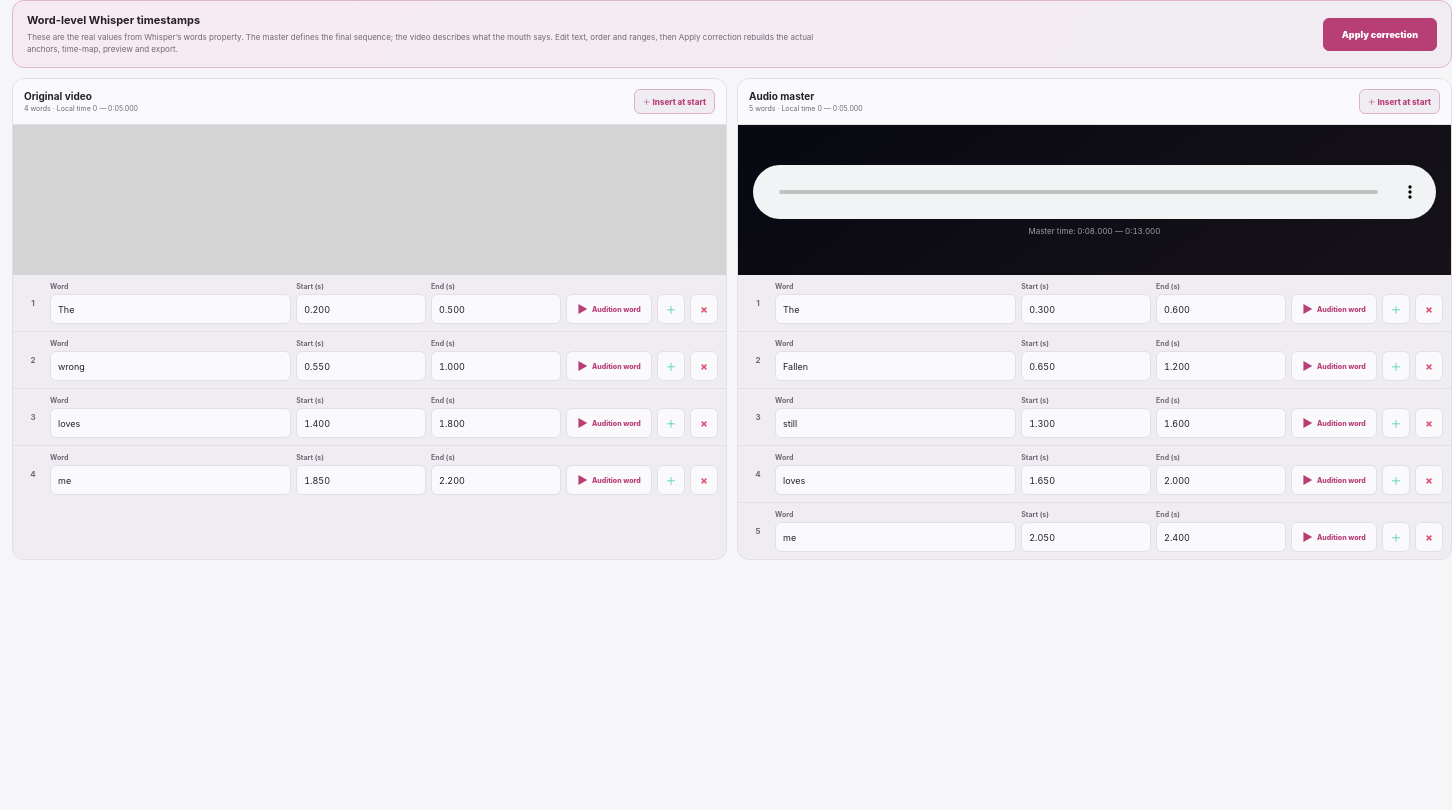
Scenario: MlsmWhisperWordEditor › shows the complete words property for video and master and applies text/count/timestamp edits
Expected: the element "Original video" shows "4 words", [12, 78, 727, 560]
Expected: the element "Audio master" shows "5 words", [737, 78, 1451, 560]
Step 1. Replace the text in the field named "Word Original video 2" with "Fallen" → (171, 366), box [50, 351, 291, 381]
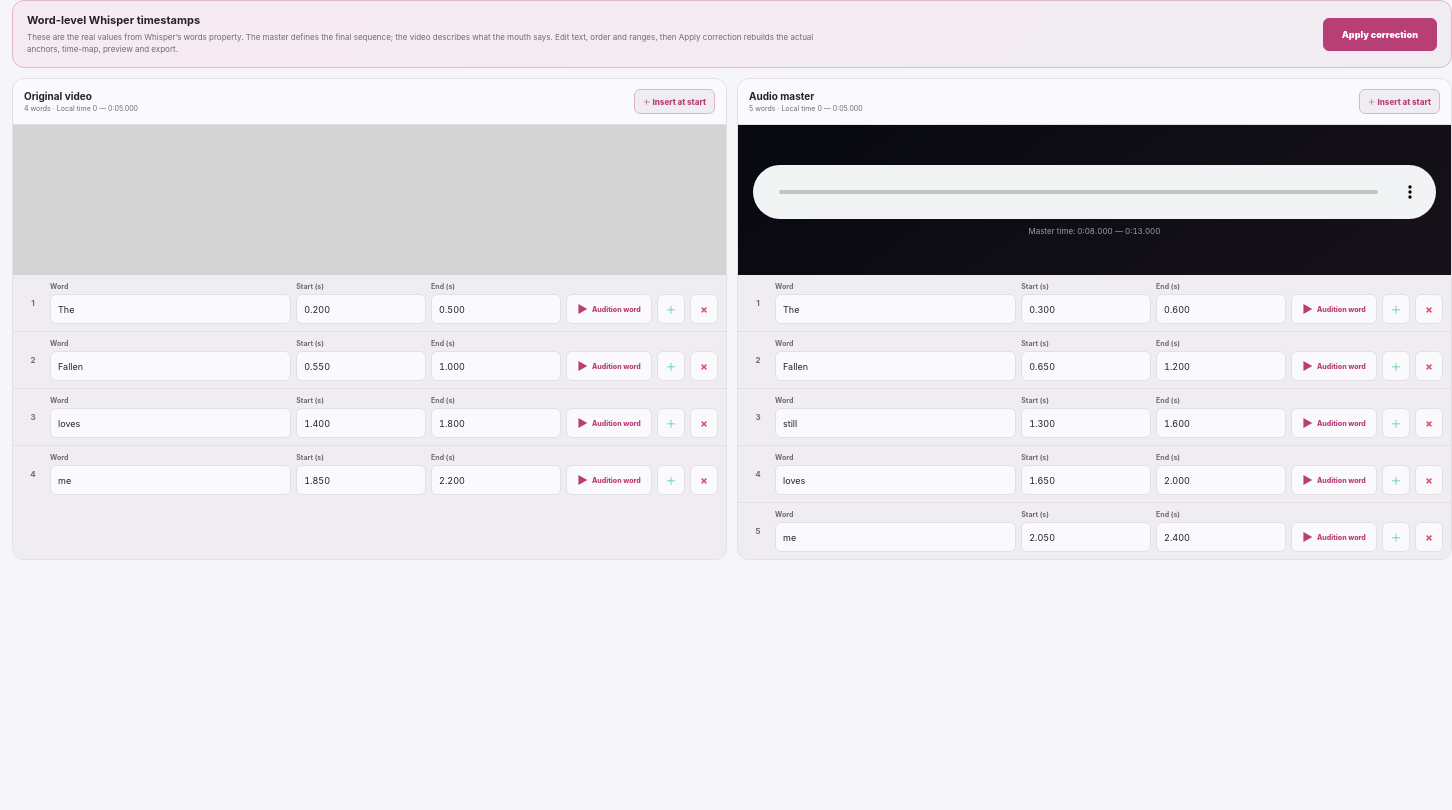
Step 2. Replace the text in the field named "Start (s) Original video 2" with "0.600" → (361, 366), box [296, 351, 426, 381]
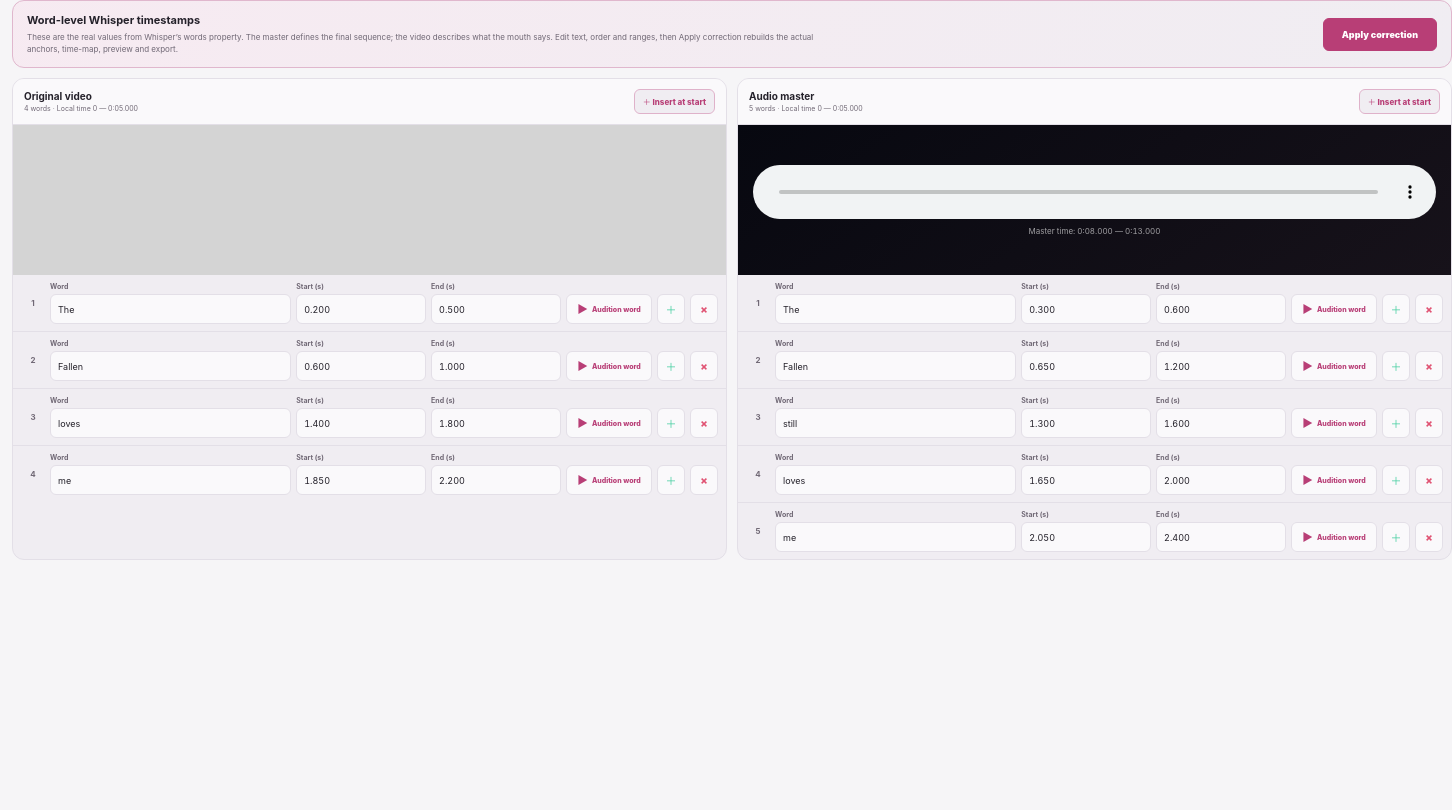
Step 3. Click the button named "Insert after: Fallen · Original video" → (671, 366), box [657, 351, 685, 381]
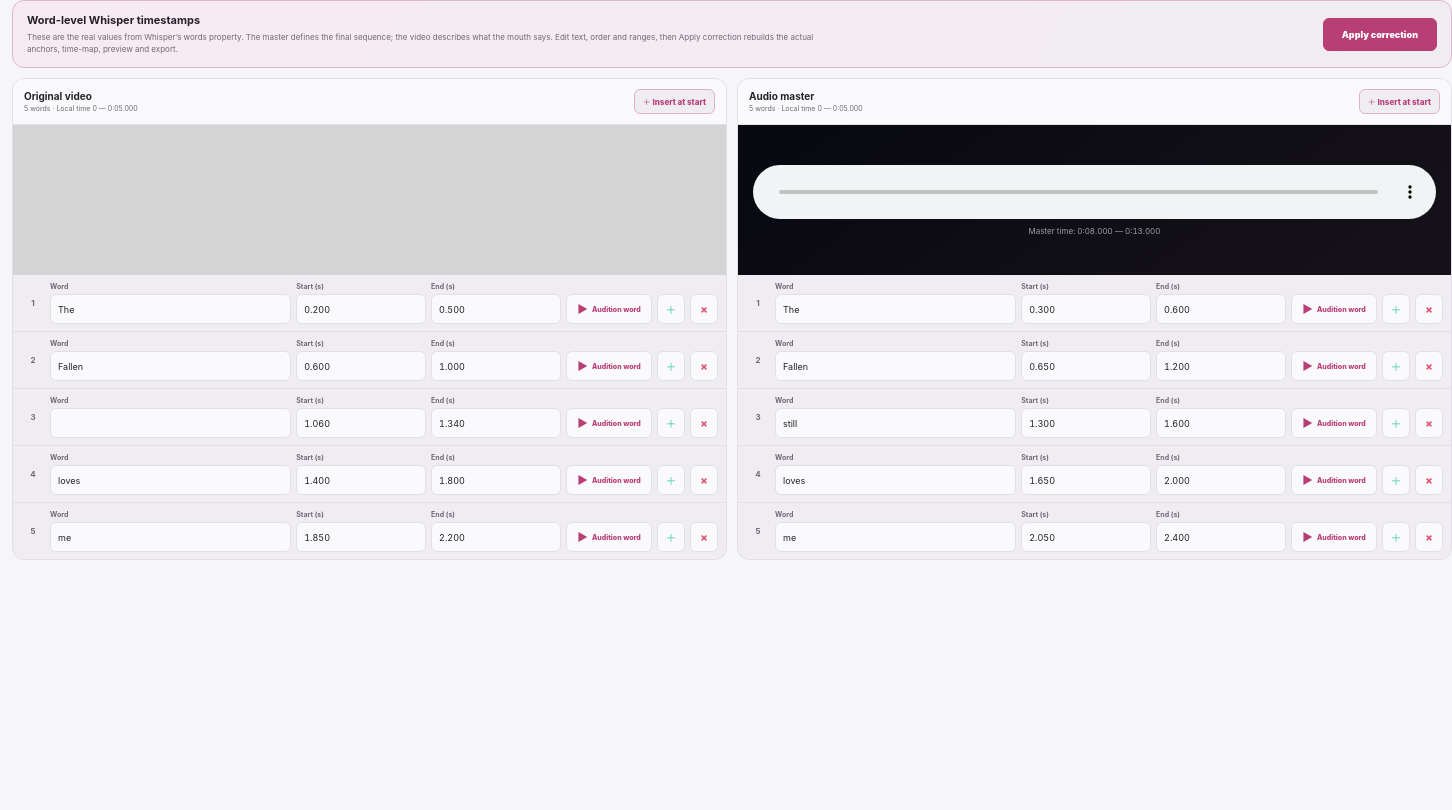
Expected: the element "Original video" shows "5 words", [12, 78, 727, 560]
Step 4. Type "still" into the field named "Word Original video 3" → (171, 423), box [50, 408, 291, 438]
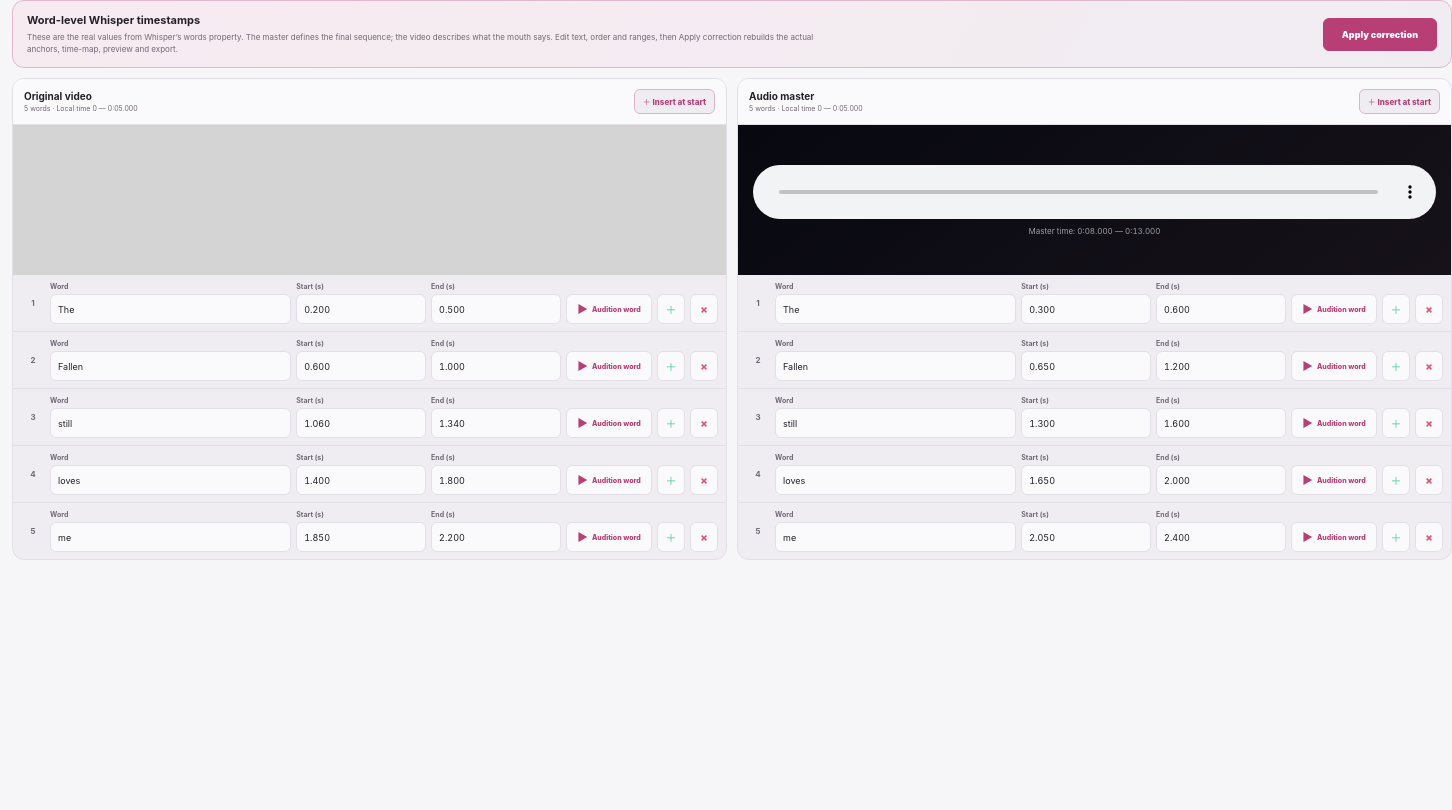
Step 5. Click the button named "Delete word: still · Audio master" → (1429, 423), box [1415, 408, 1443, 438]
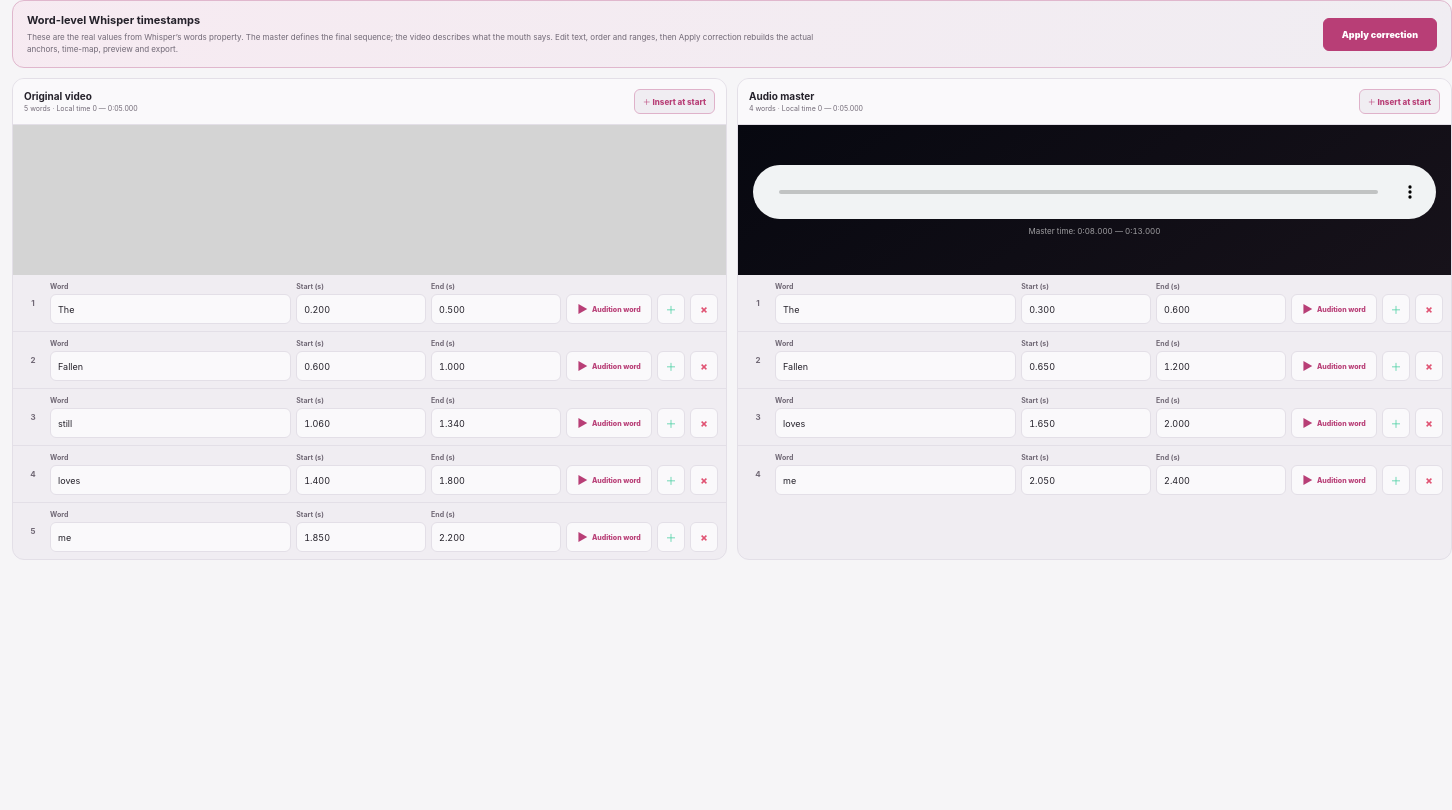
Expected: the element "Audio master" shows "4 words", [737, 78, 1451, 560]
Step 6. Click the button "Apply correction" → (1380, 34), box [1323, 18, 1437, 50]
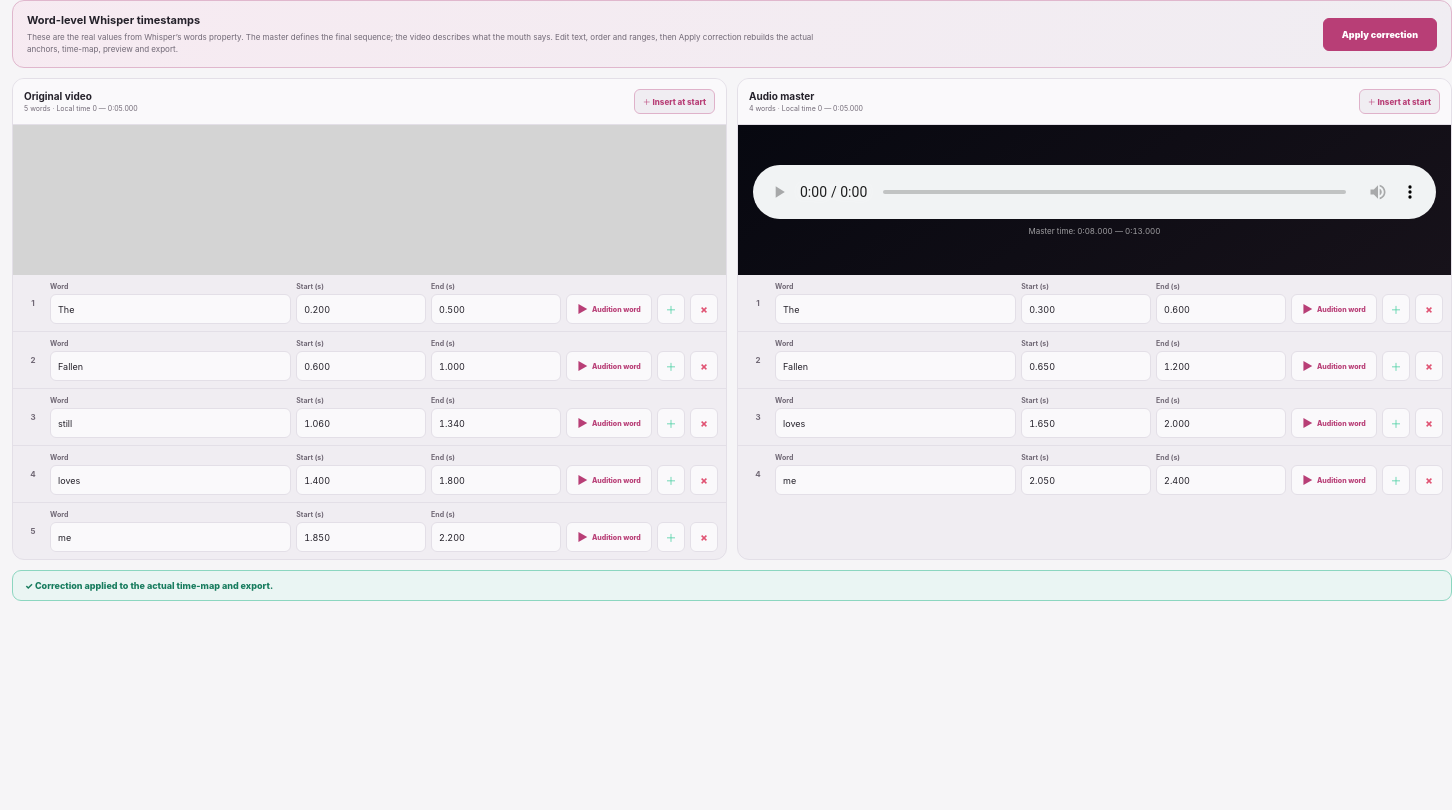
Expected: the message shows "actual time-map and export", [35, 580, 273, 591]
